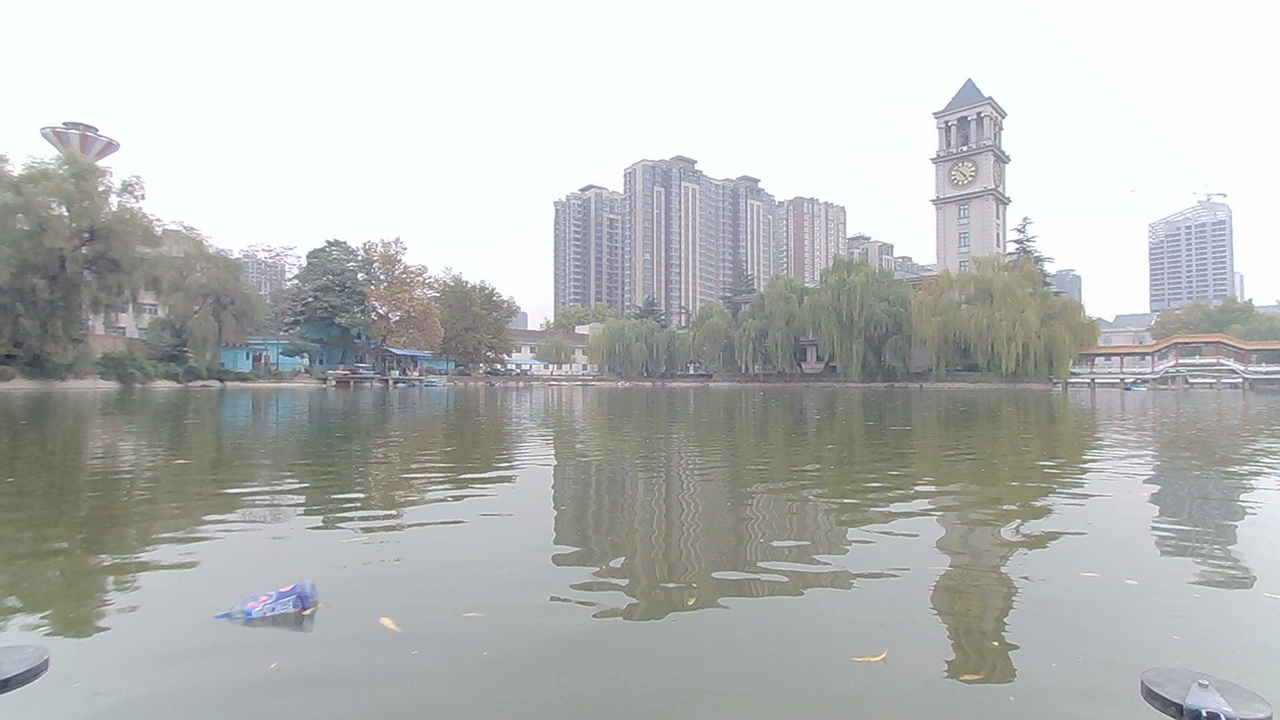bottle: (229, 573, 320, 631)
